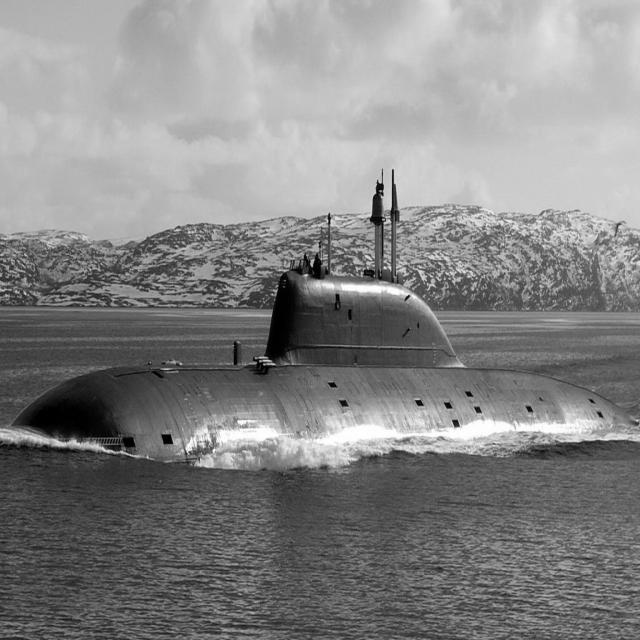submarine: (2, 161, 640, 479)
